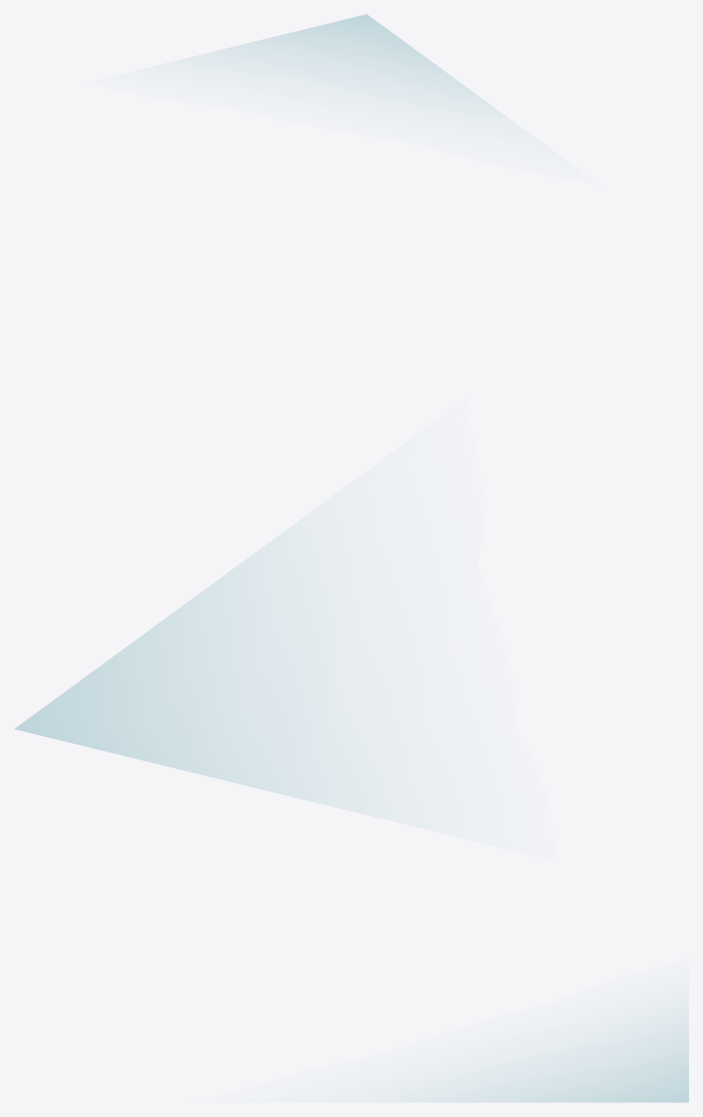
3 views of the same model, one above another, from view 1: azimuth 30°, elevation 25°; view 2: azimuth 150°, elevation 25°; view 3: azimuth 270°, elevation 25° (orthographic). The views are drawn at different scales.
Parts seen in each view (by area): view 1: city; view 2: city; view 3: city.
Boxes of the visible parts, x1,y1,x2,y2 form: city: (191,14,502,114); city: (15,537,355,811); city: (404,1011,688,1102).
Size of the model in its own units: 238 by 0 by 376.
